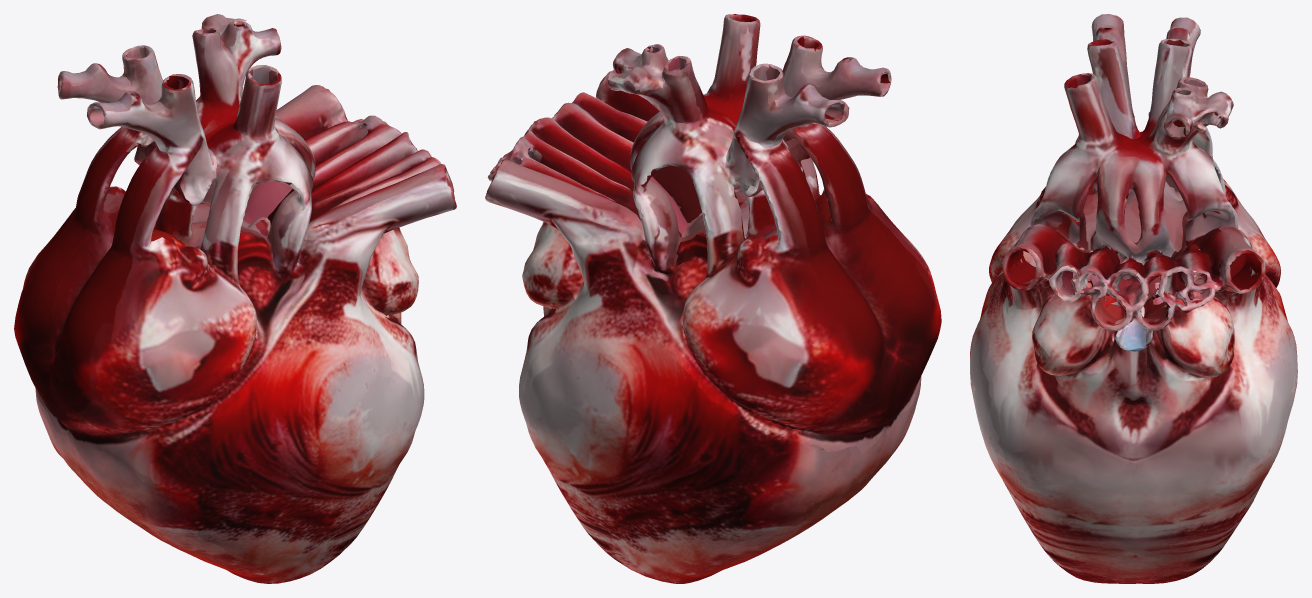
The model's file is red heart.glb.
3 renders of one model, left to right at view 1: azimuth 30°, elevation 25°; view 2: azimuth 150°, elevation 25°; view 3: azimuth 270°, elevation 25°, orthographic. The views are drawn at different scales.
Parts seen in each view (by area): view 1: tmpjm0hem2n.ply; view 2: tmpjm0hem2n.ply; view 3: tmpjm0hem2n.ply.
Boxes of the visible parts, bbox=[...] form: tmpjm0hem2n.ply: bbox=[14, 14, 456, 583]; tmpjm0hem2n.ply: bbox=[485, 14, 941, 583]; tmpjm0hem2n.ply: bbox=[970, 14, 1297, 583].
Bounding box in the file's own units: 1.5 × 1.96 × 1.19.
1 material, 1 textured.
